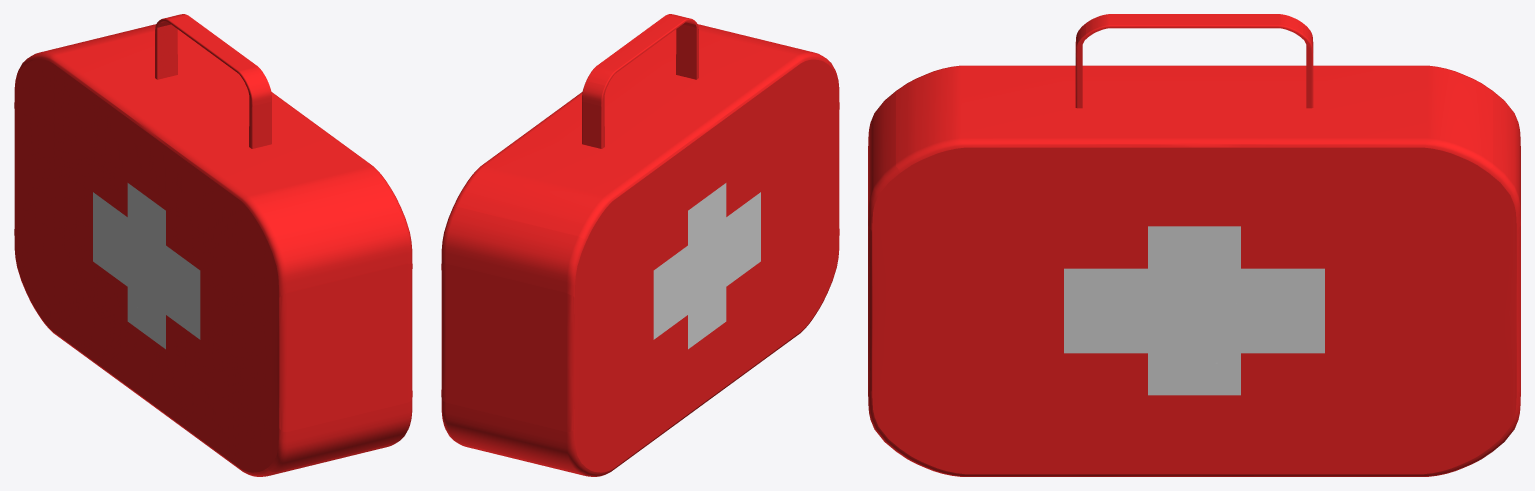
The model's file is medkit.fbx.
3 renders of one model, left to right at view 1: azimuth 30°, elevation 25°; view 2: azimuth 150°, elevation 25°; view 3: azimuth 270°, elevation 25°, orthographic. The views are drawn at different scales.
Visible parts, largest first — view 1: pCube7, pasted__pCube7; view 2: pCube7, pasted__pCube7; view 3: pCube7, pasted__pCube7.
Part boxes in pixels (left/top/right/bottom): pCube7: left=14, top=24, right=412, bottom=476; pasted__pCube7: left=155, top=14, right=271, bottom=148; pCube7: left=441, top=24, right=839, bottom=476; pasted__pCube7: left=582, top=14, right=698, bottom=148; pCube7: left=868, top=65, right=1520, bottom=476; pasted__pCube7: left=1075, top=14, right=1313, bottom=108.
Bounding box in the file's own units: 1.01 × 2.49 × 3.5.
2 materials, 2 textured.
